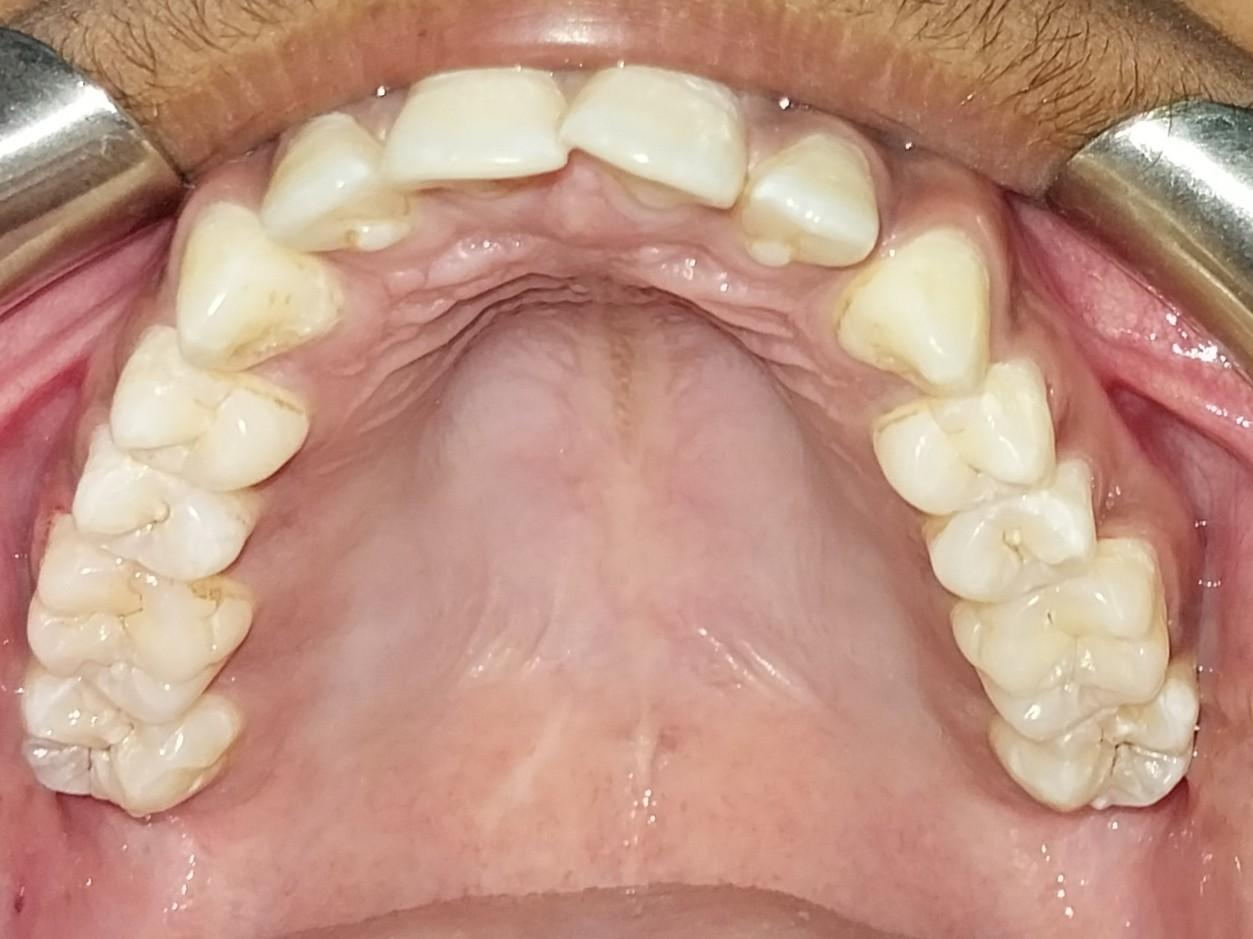D: (15, 661, 241, 819), (990, 650, 1200, 812)
